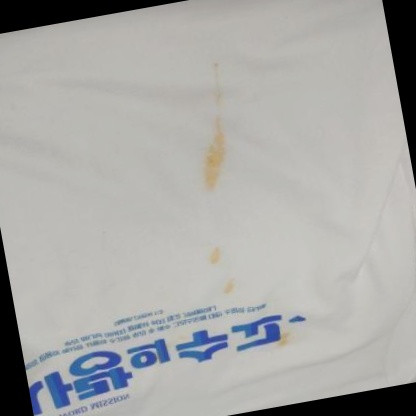kimchi: (193, 125, 241, 194), (209, 53, 227, 105), (223, 278, 240, 297), (277, 332, 294, 348), (217, 113, 229, 133), (205, 249, 219, 264), (177, 334, 187, 346), (169, 350, 178, 359), (167, 340, 172, 346)
